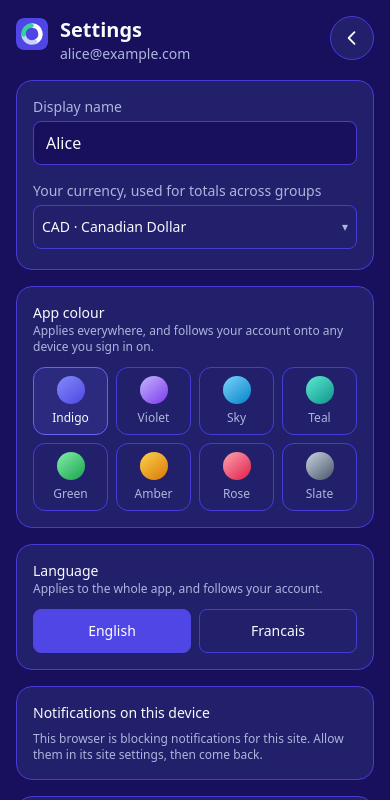
Test: the profile settings › saving the profile › puts everything back when cancelled
Step 1. Replace the text in the field labelled "Display name" with "Alice A" → (195, 143), box [33,121,357,165]
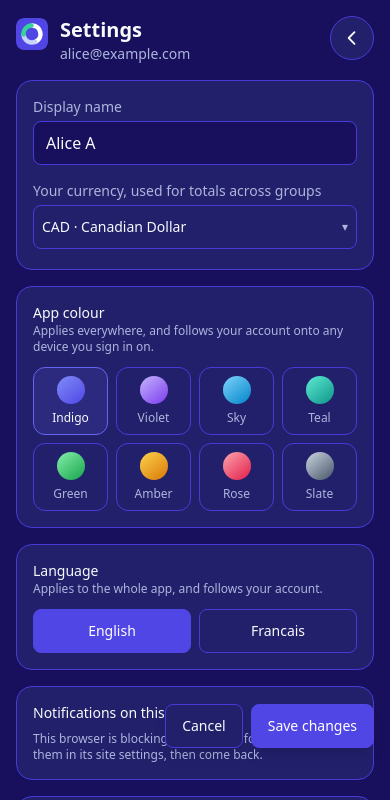
Step 2. Click the button with aria-label "Currency" → (114, 226), box [33,205,357,249]
(page scrolled)
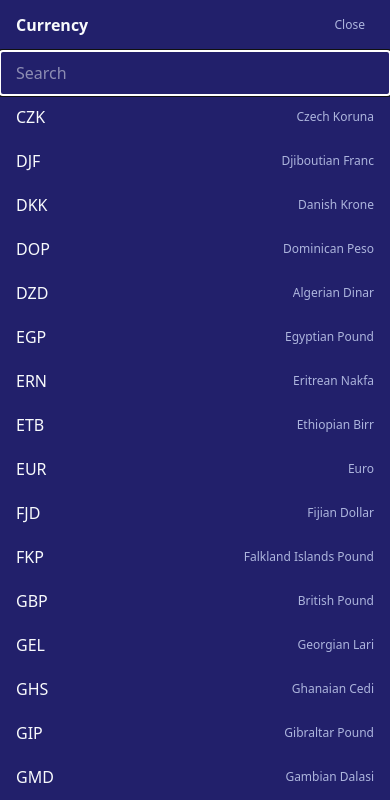
Step 3. Click the option "EUR Euro" → (31, 469), box [0,447,389,491]
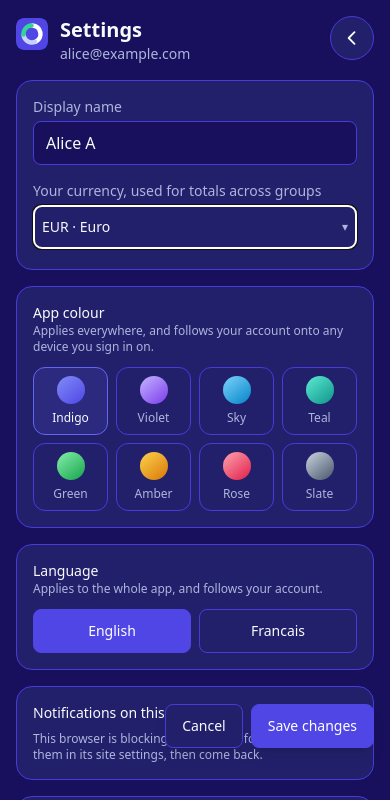
Step 4. Click the button with test id "cancel-changes" → (204, 726), box [165,704,243,748]
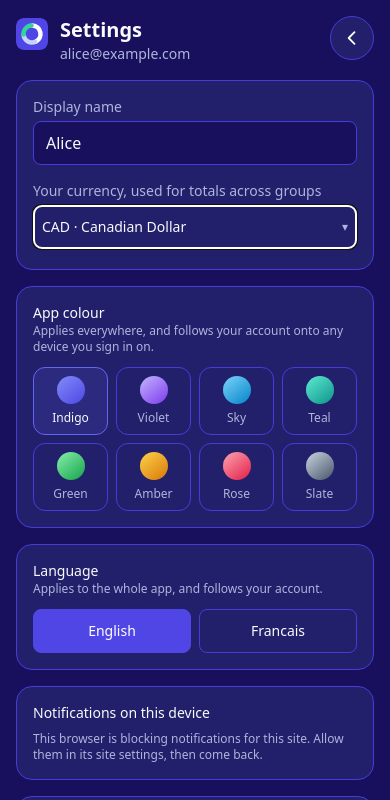
Expected: the field labelled "Display name" holds "Alice", [33,121,357,165]
